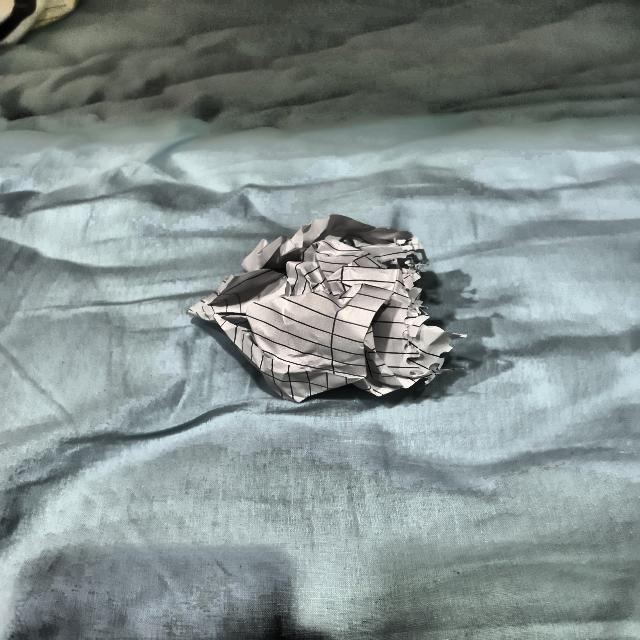Paper: (208, 219, 447, 402)
